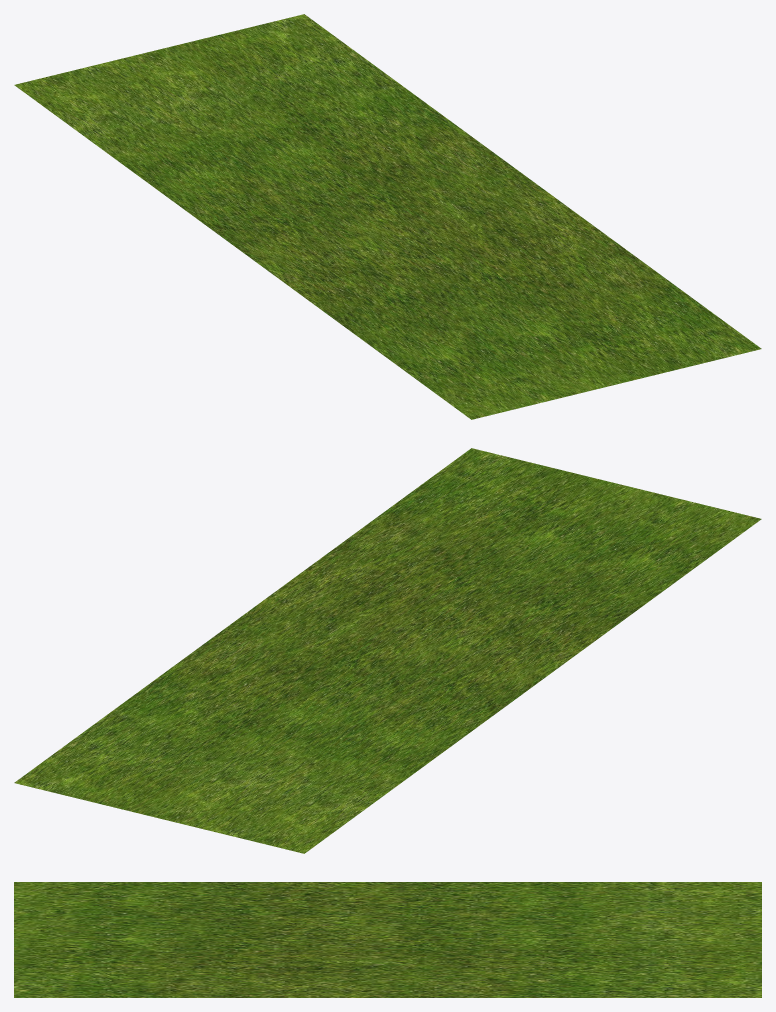
File: cesped.obj
3 views of the same model, one above another, from view 1: azimuth 30°, elevation 25°; view 2: azimuth 150°, elevation 25°; view 3: azimuth 270°, elevation 25° (orthographic). The views are drawn at different scales.
Parts seen in each view (by area): view 1: Plane001; view 2: Plane001; view 3: Plane001.
Boxes of the visible parts, x1=… form: Plane001: x1=14, y1=14, x2=761, y2=419; Plane001: x1=14, y1=448, x2=761, y2=853; Plane001: x1=14, y1=882, x2=761, y2=997.
Bounding box in the file's own units: 50.73 × 0 × 138.
1 material, 1 textured.
